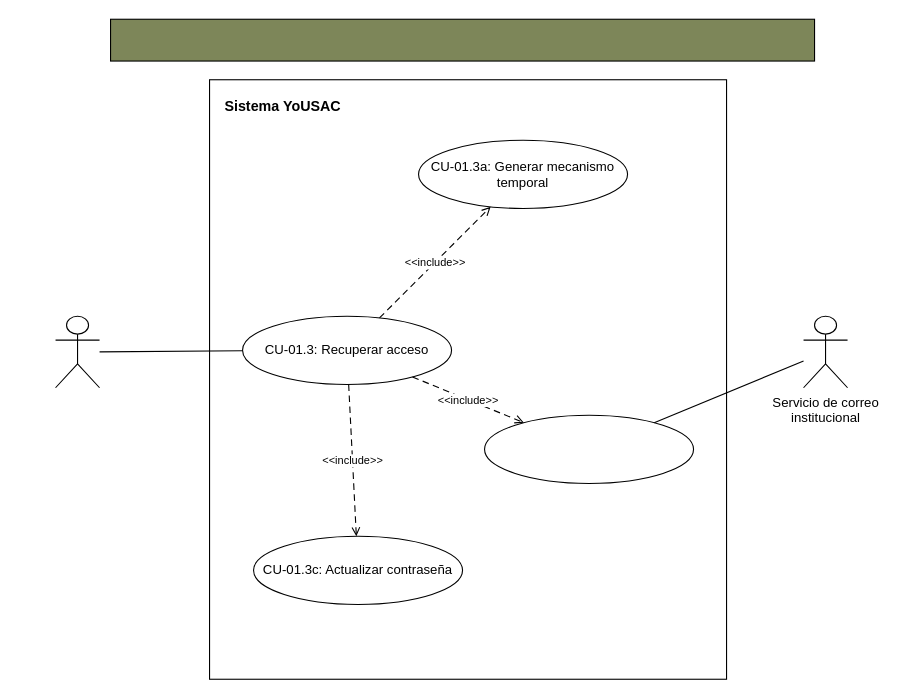
Some shapes in this 898 by 699 pixel diagram are drawn without their labels. The shapes that lost their labels are listed below. From the top down, each one's centre as x and y in pixels, then its label:
(462,39): Plataforma YoUSAC — CU-01.3 — Recuperar acceso
(77,351): Usuario institucional
(588,448): CU-01.3b: Enviar mecanismo de recuperación
